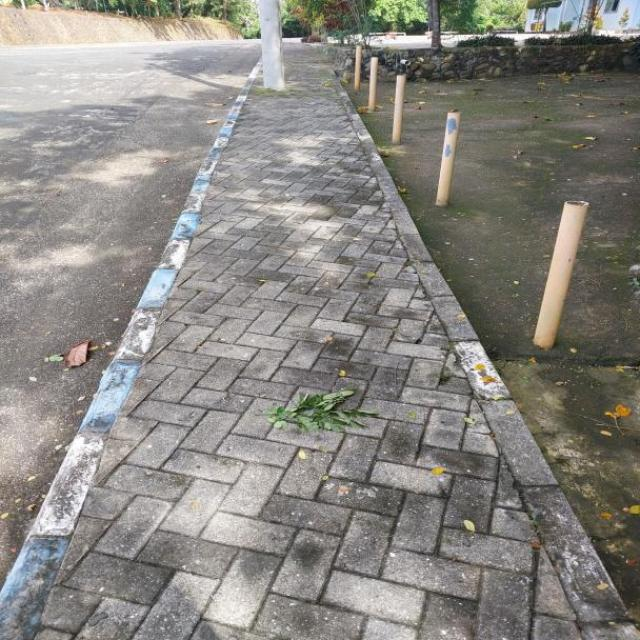barrier ahead at: (532, 185, 590, 355), (430, 101, 472, 209), (381, 67, 410, 145)
